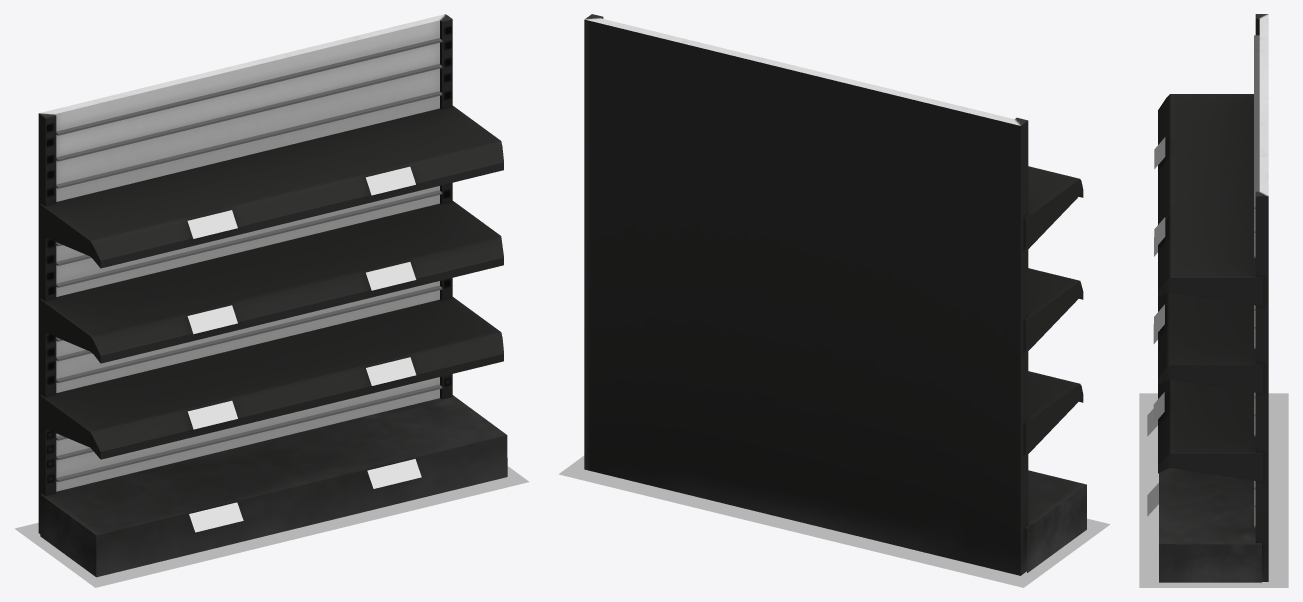
The picture shows the model from 3 angles, left to right: view 1: azimuth 30°, elevation 25°; view 2: azimuth 150°, elevation 25°; view 3: azimuth 270°, elevation 25°; orthographic projection. The views are drawn at different scales.
Parts seen in each view (by area): view 1: pCube4, polySurface3, polySurface4, Store_Shelving_Unit_Store_Shelving_Unit_2, AO_5; view 2: polySurface3, pCube4, AO_5, polySurface4; view 3: pCube4, polySurface3, AO_5, polySurface4, Store_Shelving_Unit_Store_Shelving_Unit_2.
Part boxes in pixels (x1,y1,x2,y2): pCube4: (39, 106, 503, 459); polySurface3: (40, 20, 507, 577); polySurface4: (38, 14, 452, 533); Store_Shelving_Unit_Store_Shelving_Unit_2: (187, 166, 421, 532); AO_5: (14, 466, 528, 587); polySurface3: (584, 19, 1086, 575); pCube4: (1024, 166, 1083, 456); AO_5: (558, 455, 1109, 587); polySurface4: (585, 14, 1028, 575); pCube4: (1158, 94, 1263, 481); polySurface3: (1159, 468, 1261, 582); AO_5: (1139, 393, 1288, 587); polySurface4: (1254, 14, 1268, 581); Store_Shelving_Unit_Store_Shelving_Unit_2: (1147, 137, 1165, 516).
Bounding box in the file's own units: 259 × 239 × 83.71.
